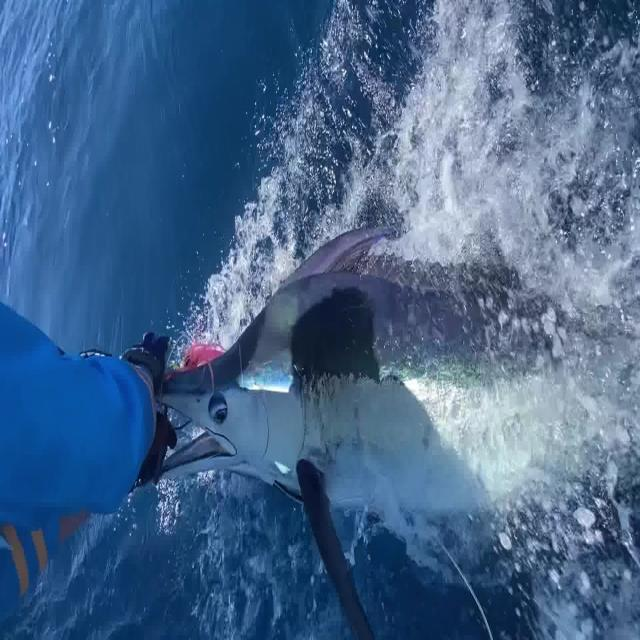Liberacion segura: (154, 223, 640, 640)
